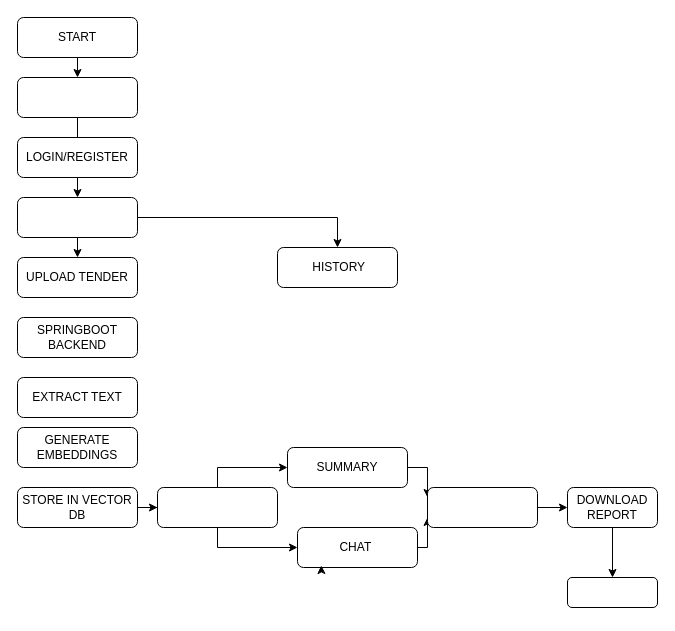
Some shapes in this 675 by 631 pixel diagram are drawn without their labels. The centre of each missing label's shape, as x and y in pixels:
"DASHBOARD" goes at (x=77, y=217).
"END" goes at (x=612, y=592).
"GEMINI/OPEN AI" goes at (x=217, y=507).
"LANDING PAGE" goes at (x=77, y=97).
"TENDER DETAILS" goes at (x=482, y=507).
